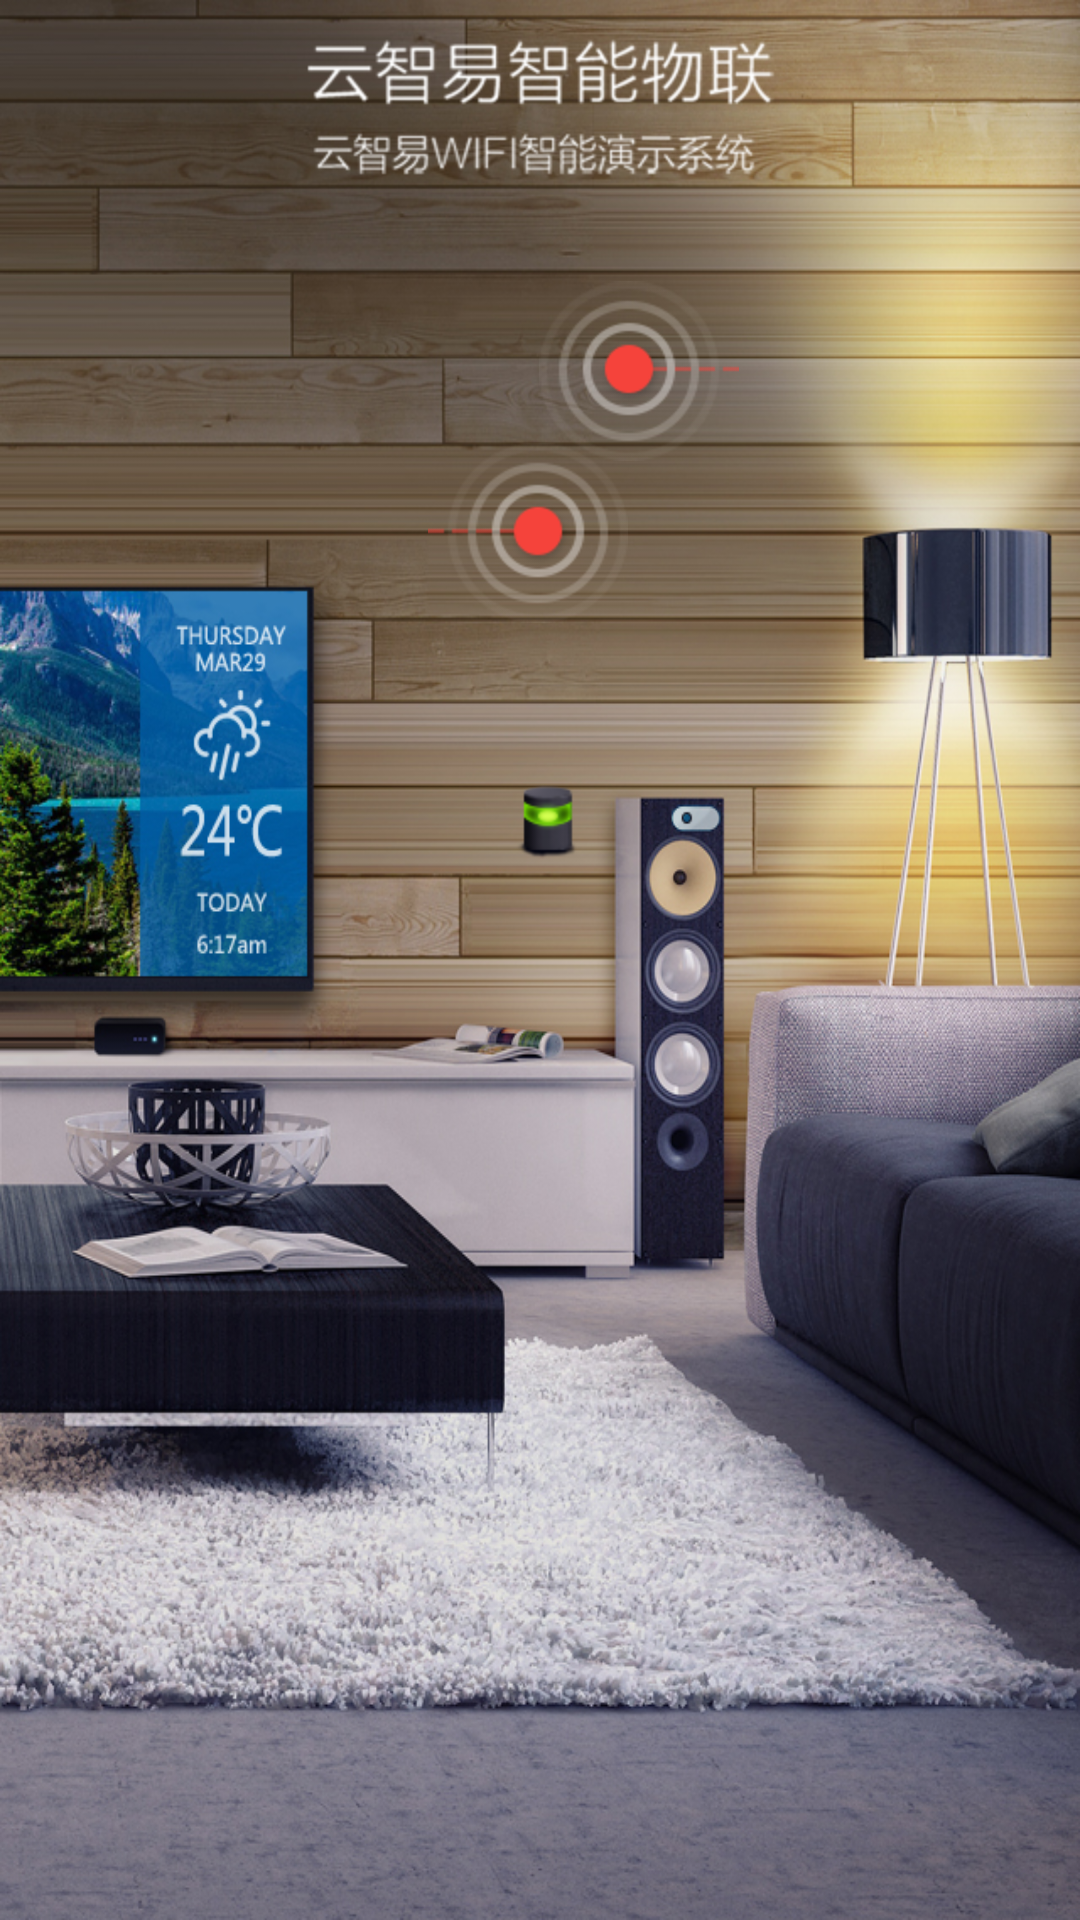

Icons on this 1080px×1920px Android screen, each with its box as (x1, y1, x2, y2):
notice left: (428, 443, 628, 621)
notice right: (539, 282, 739, 447)
